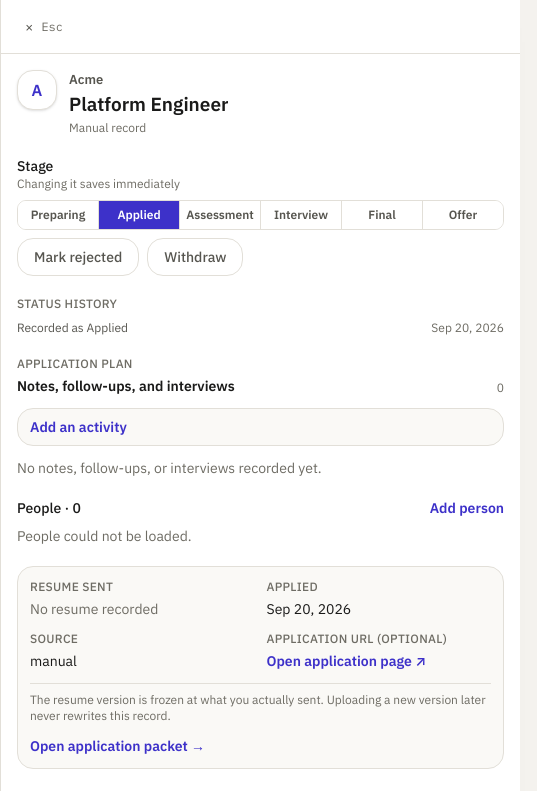
Test: FocusPanel — application flavour › records a dated follow-up in the application plan
Expected: the heading "Platform Engineer" is shown, [69,90,228,118]
Click the heading "Add an activity": (78, 427) [30,418,127,436]
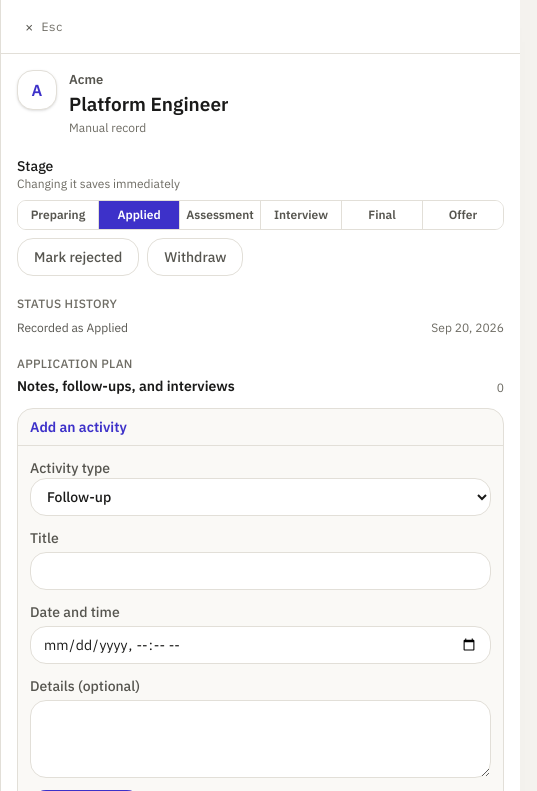
In the field labelled "Title": (260, 571) [30,552,491,590], type "Email the recruiter"
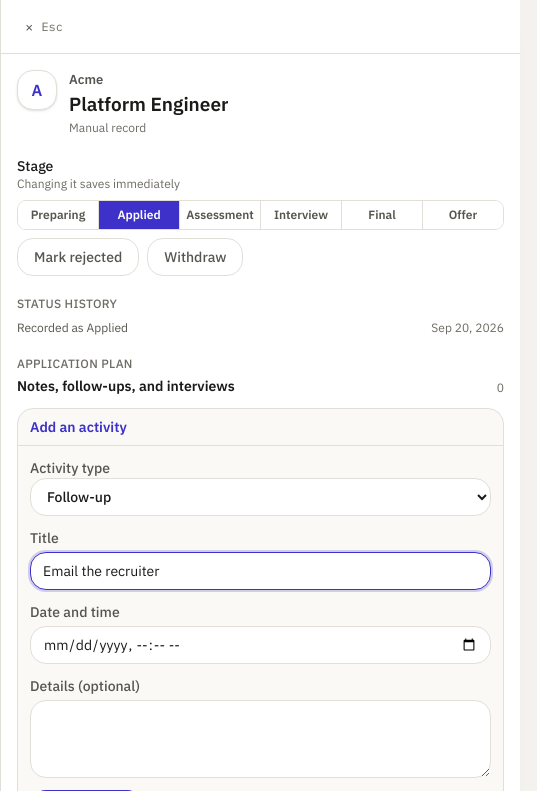
In the field labelled "Date and time": (260, 645) [30,626,491,664], type "2026-10-01T10:30"
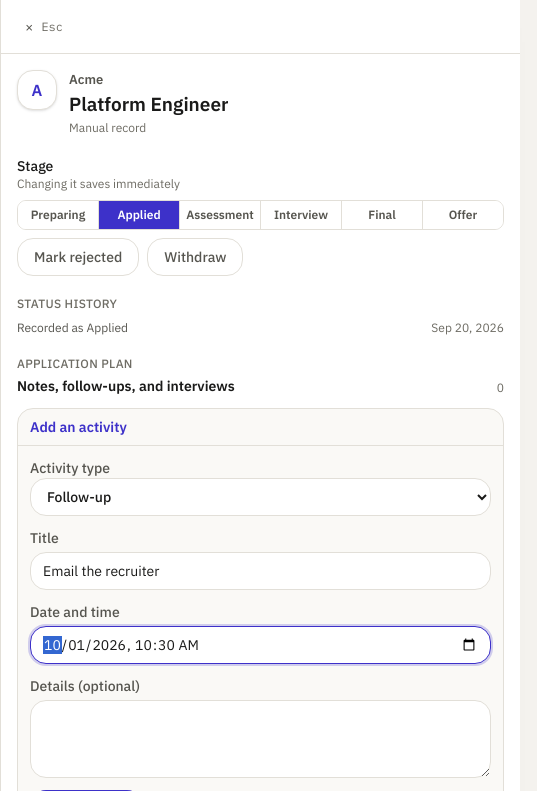
In the text box labelled "Details (optional)": (260, 739) [30,700,491,778], type "Ask about the next round."
(page scrolled)
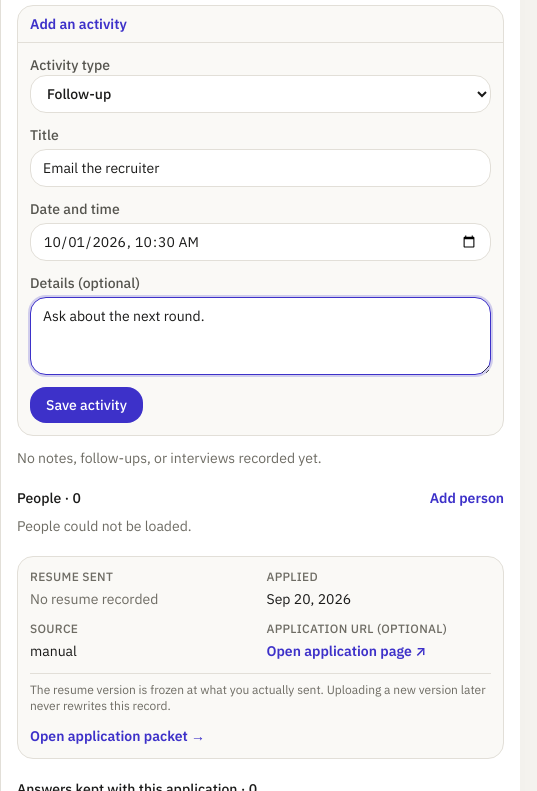
Click the button "Save activity": (86, 405) [30,387,143,423]
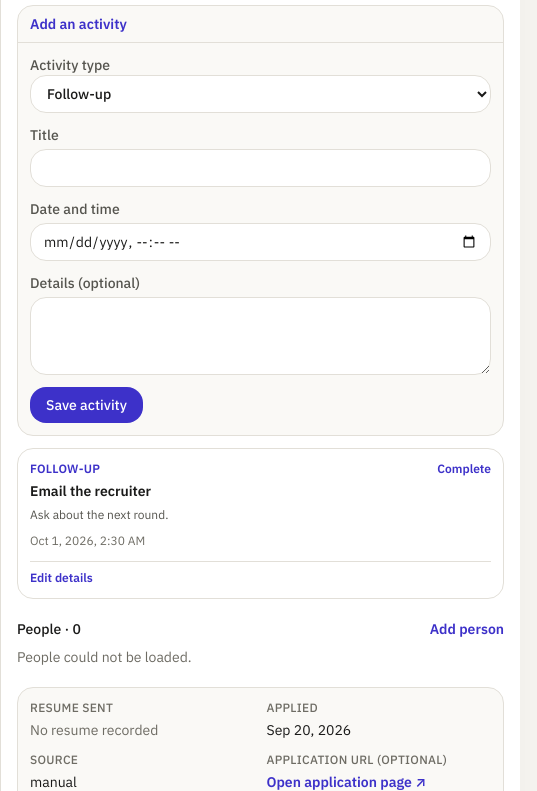
Expected: the text "Email the recruiter" is shown, [30,481,168,501]
